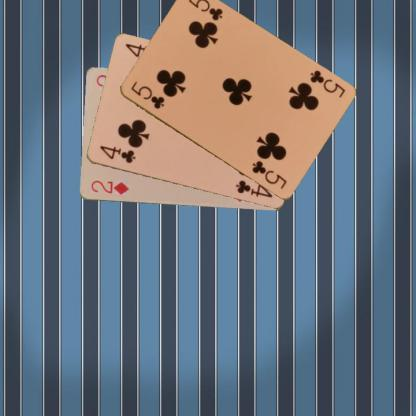2d: (88, 178, 130, 196)
4c: (96, 142, 136, 165)
5c: (307, 67, 346, 99), (128, 78, 165, 110)
